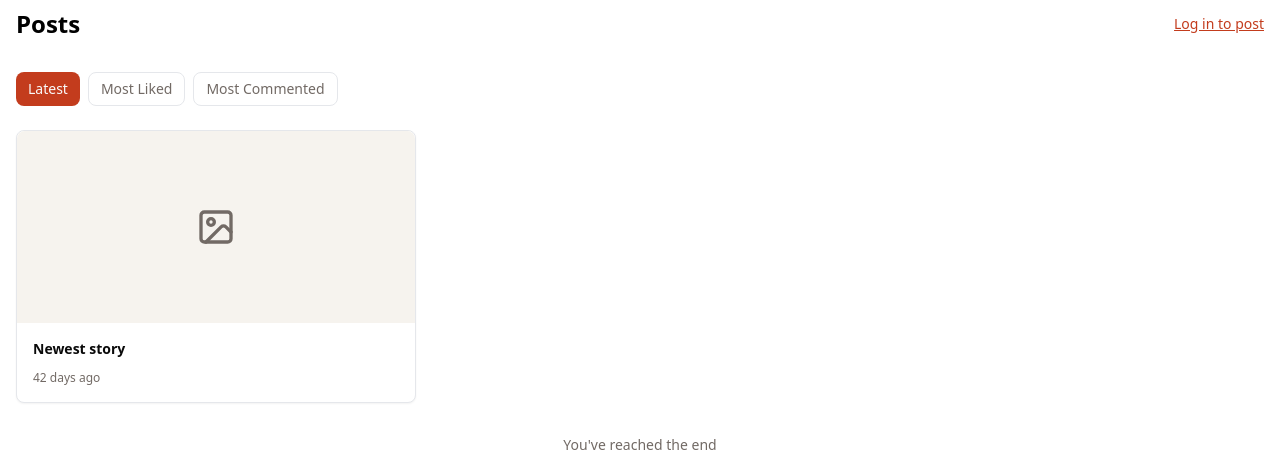
Test: PostsPage › switches sort tabs and refetches page 0
Check: the heading "Newest story" is shown, box x1=33 y1=339 x2=125 y2=358
Click the button "Most Liked" at (137, 89), box x1=88 y1=72 x2=185 y2=106
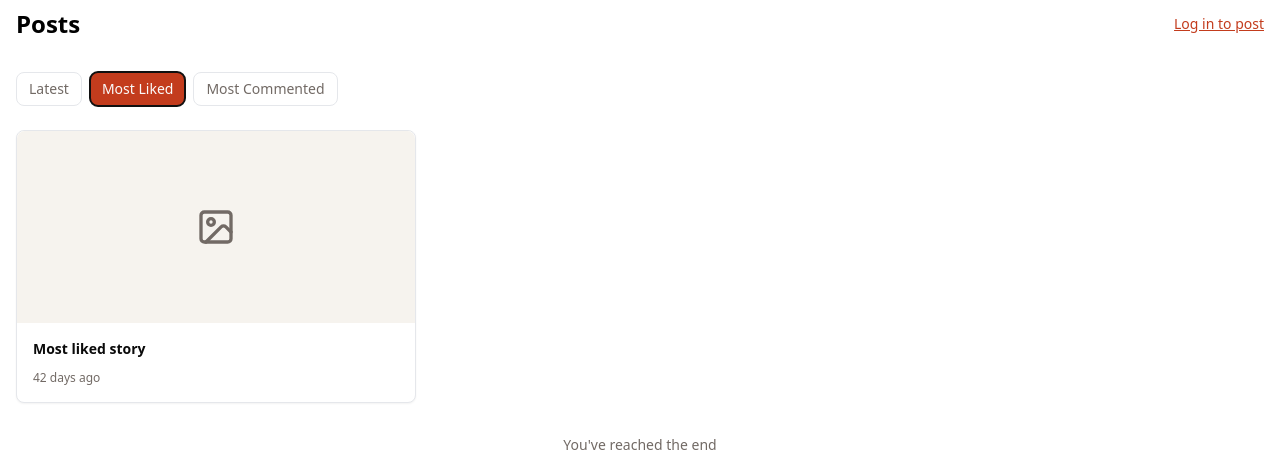
Check: the heading "Most liked story" is shown, box x1=33 y1=339 x2=146 y2=358
Check: the link "Newest story" is gone
Click the button "Most Commented" at (266, 89), box x1=193 y1=72 x2=338 y2=106
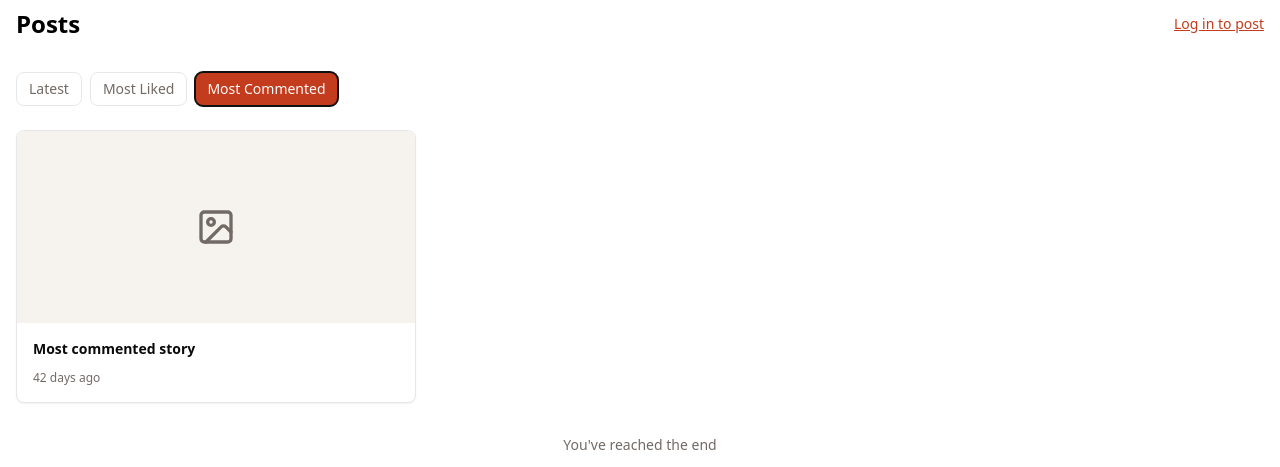
Check: the heading "Most commented story" is shown, box x1=33 y1=339 x2=195 y2=358
Check: the link "Most liked story" is gone
